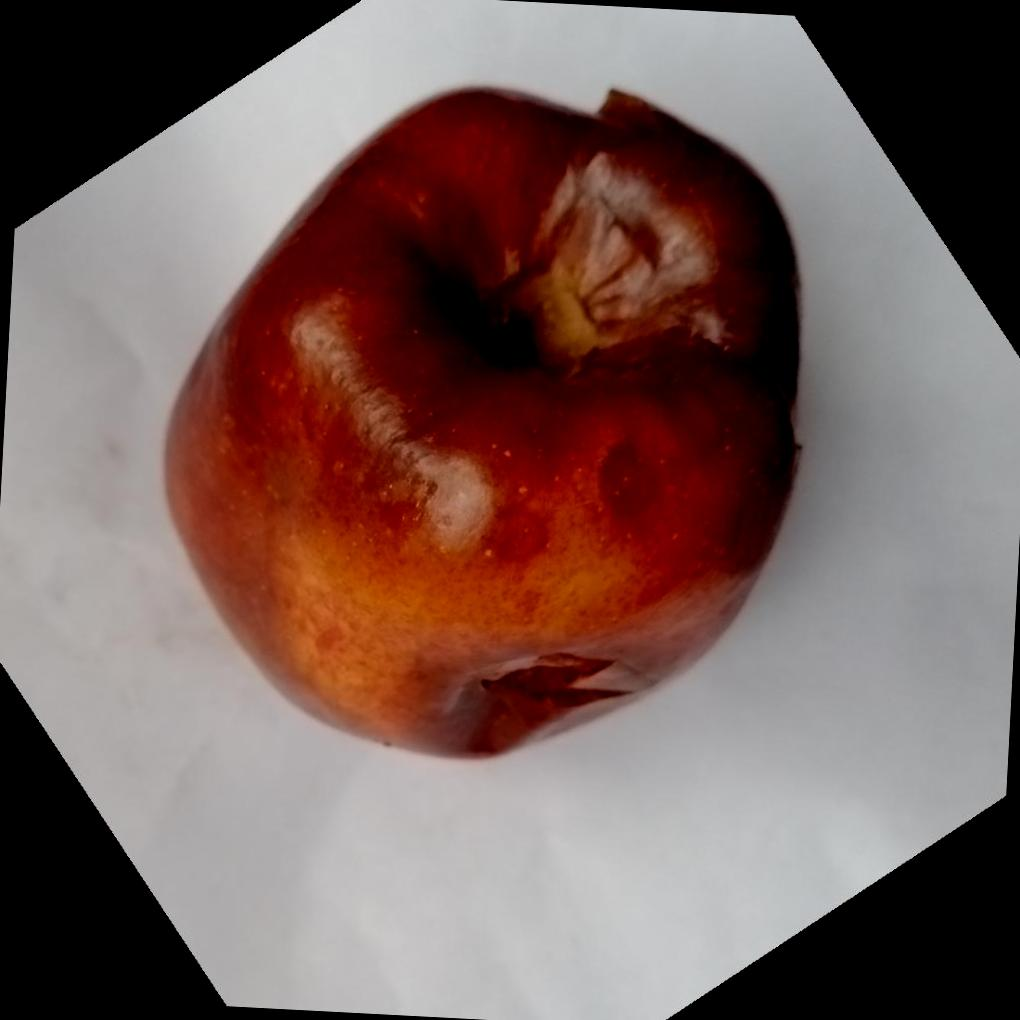FreshOrange: (161, 84, 804, 764)
